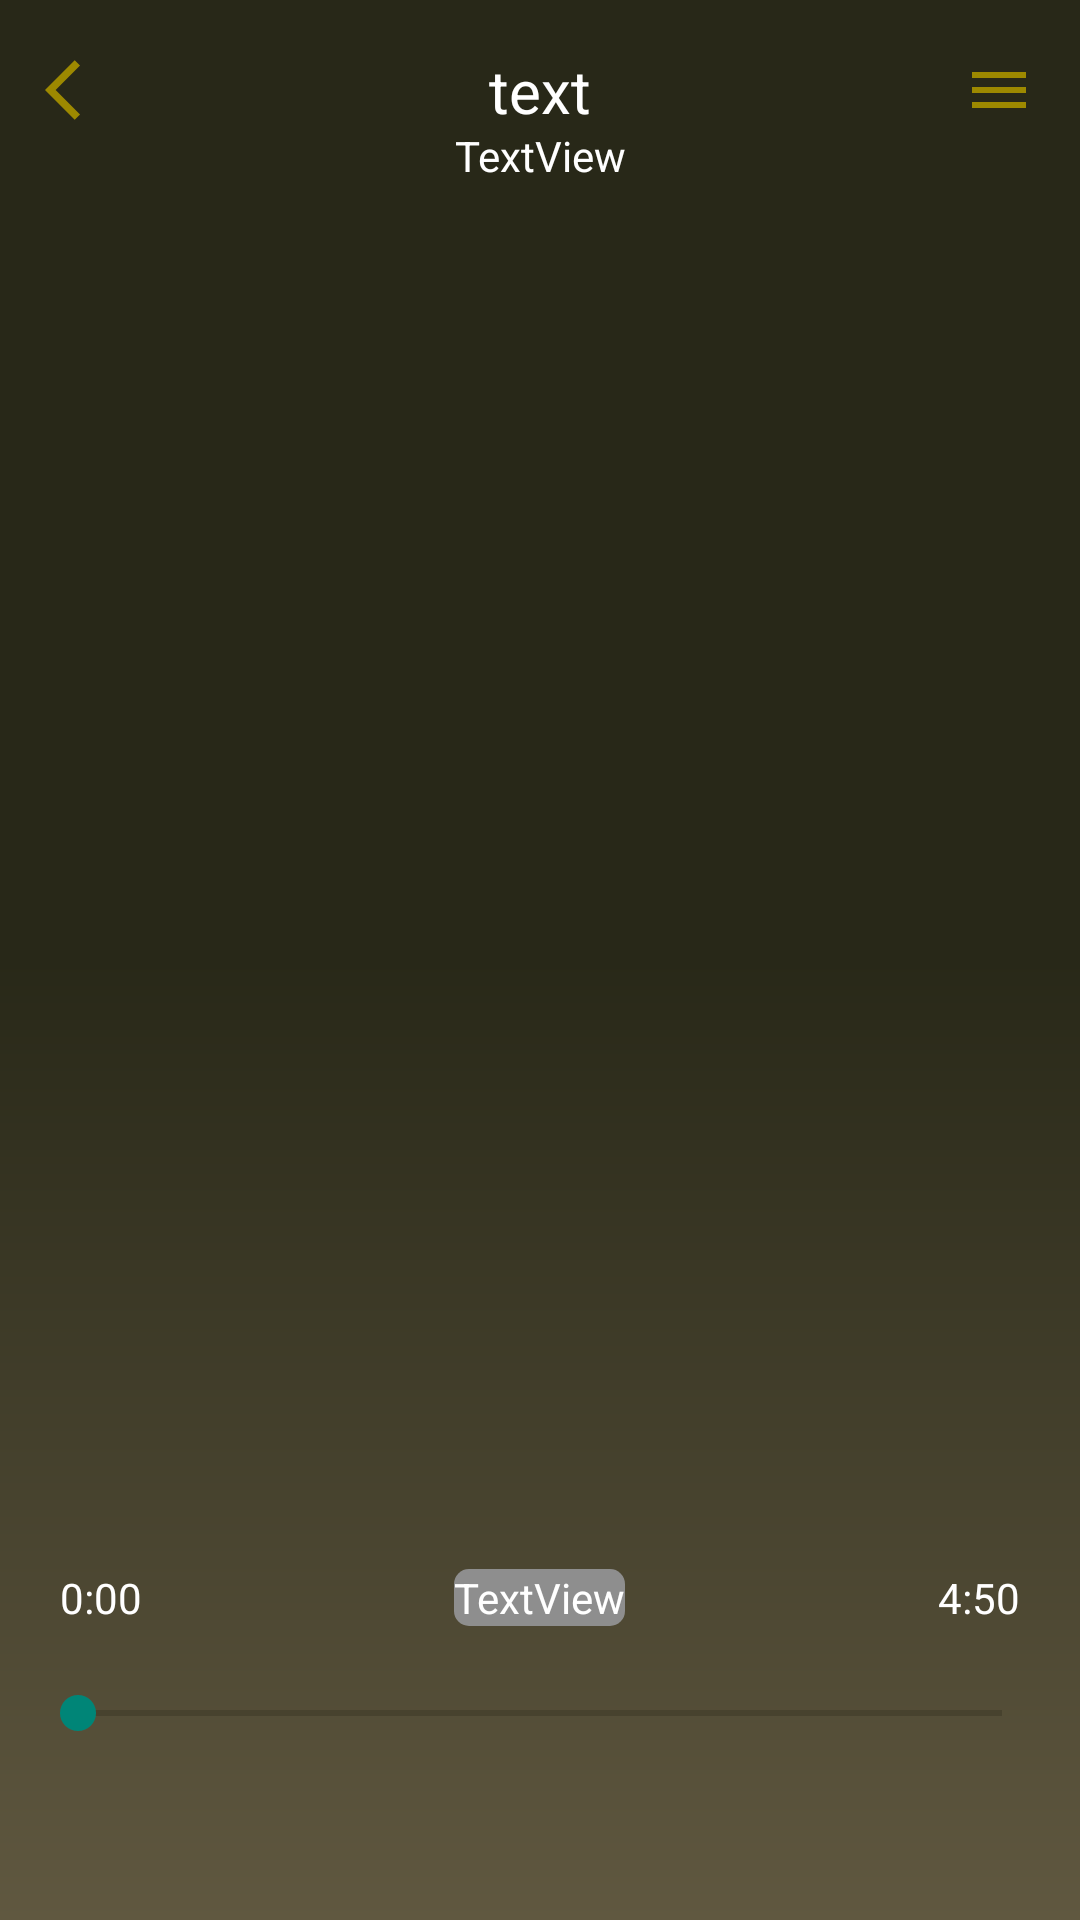

Icon bounding boxes for this 1080 x 1920 phone screenshot, format (x1, y1, x2, y2):
arrow back: (45, 60, 80, 120)
menu: (972, 72, 1026, 108)
